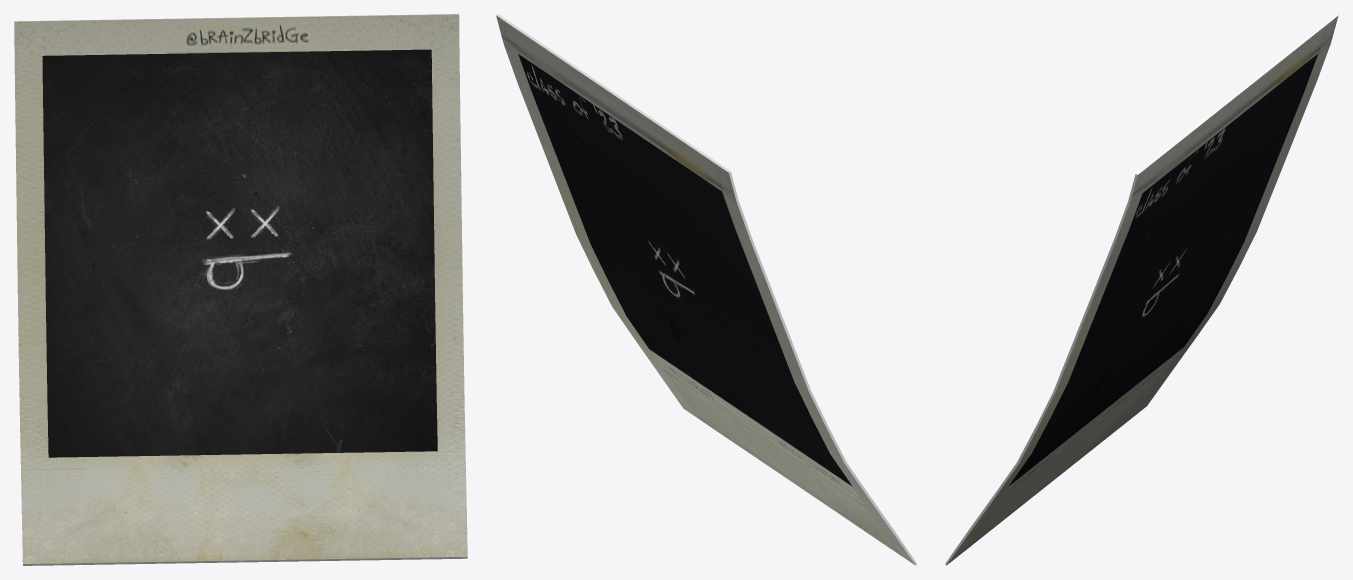
File: testingar22.glb
3 renders of one model, left to right at view 1: azimuth 30°, elevation 25°; view 2: azimuth 150°, elevation 25°; view 3: azimuth 270°, elevation 25°, orthographic. The views are drawn at different scales.
Visible parts, largest first — view 1: Object_3, Object_5; view 2: Object_4, Object_5; view 3: Object_4, Object_5.
Part boxes in pixels (x1,y1,x2,y2): Object_3: [42, 49, 437, 457]; Object_5: [14, 14, 467, 565]; Object_4: [518, 54, 852, 486]; Object_5: [496, 14, 916, 565]; Object_4: [1009, 54, 1317, 485]; Object_5: [945, 14, 1338, 565].
Bounding box in the file's own units: 1.57 × 1.57 × 1.29.
Materials: 3 (3 with a texture image).
